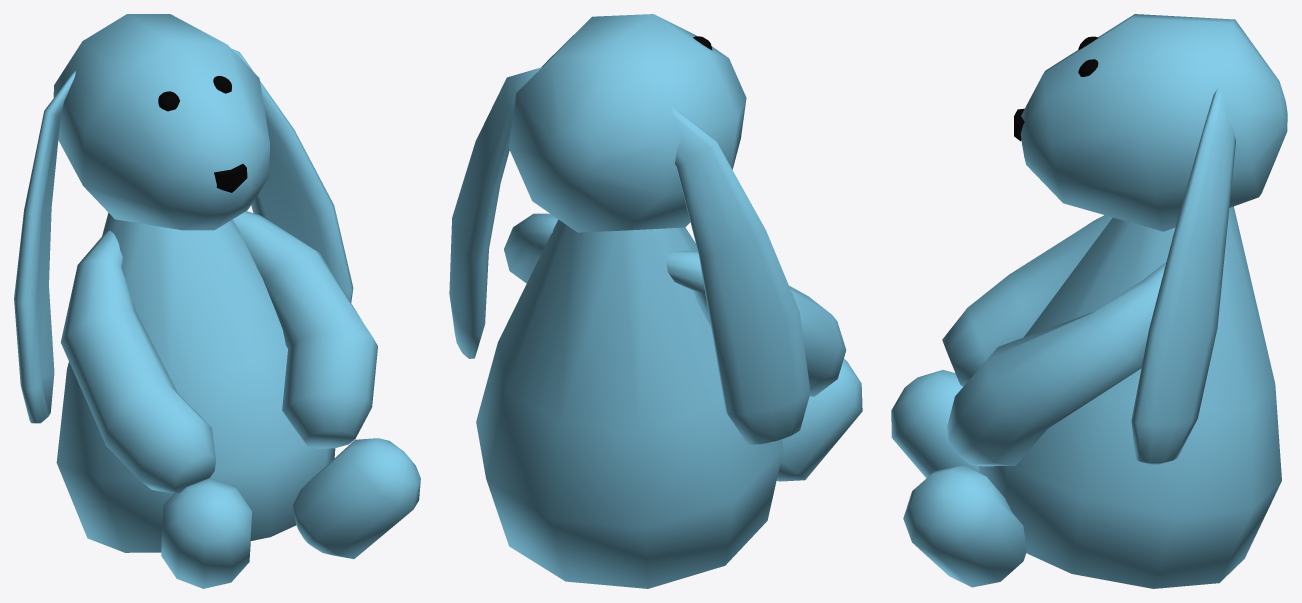
The model's file is Pluchee1_v1.fbx.
3 views of the same model, side by side, from view 1: azimuth 30°, elevation 25°; view 2: azimuth 150°, elevation 25°; view 3: azimuth 270°, elevation 25° (orthographic). The views are drawn at different scales.
Parts seen in each view (by area): view 1: Cube.369; view 2: Cube.369; view 3: Cube.369.
Part boxes in pixels (<box>): Cube.369: <box>14,14,420,588</box>; Cube.369: <box>449,14,862,588</box>; Cube.369: <box>891,14,1287,588</box>.
Bounding box in the file's own units: 239 × 343 × 233.
